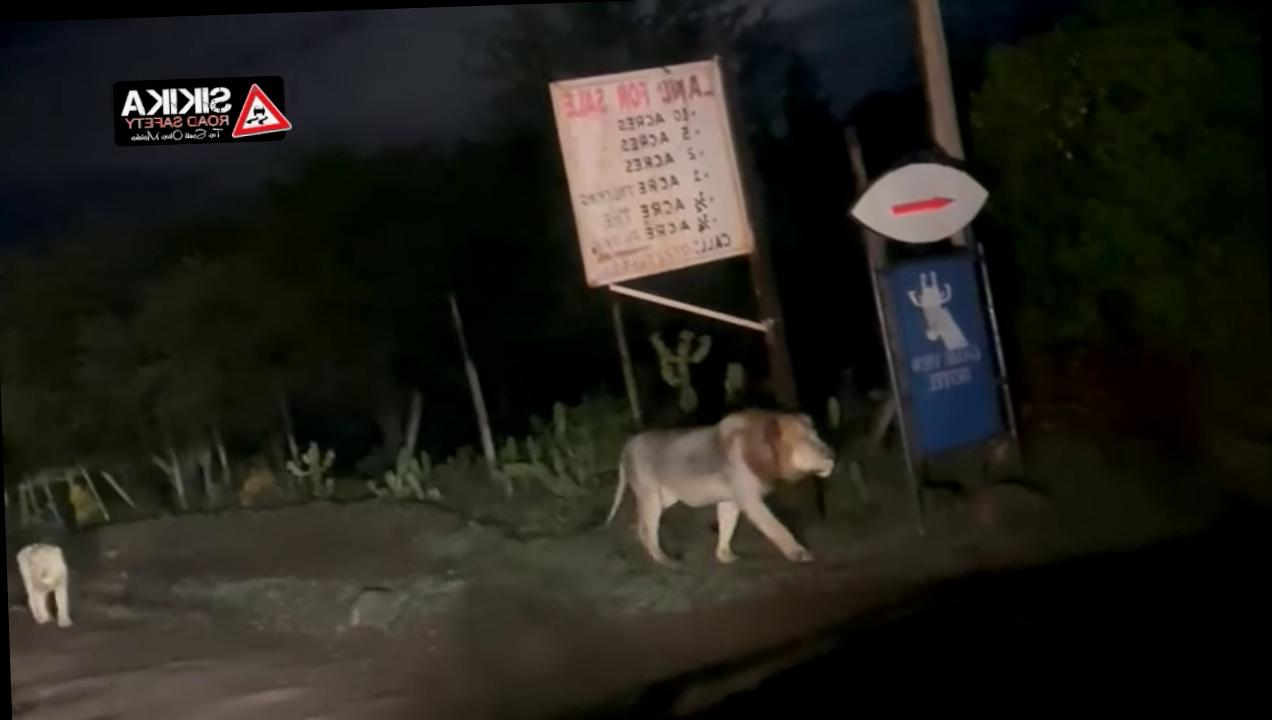lions: (580, 384, 840, 594)
